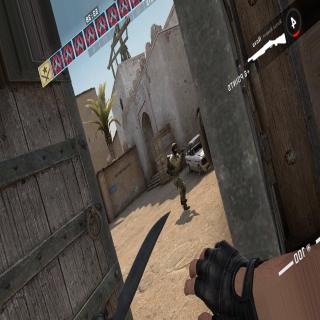CT-Body: (163, 139, 190, 212)
CT-Head: (171, 144, 178, 155)
